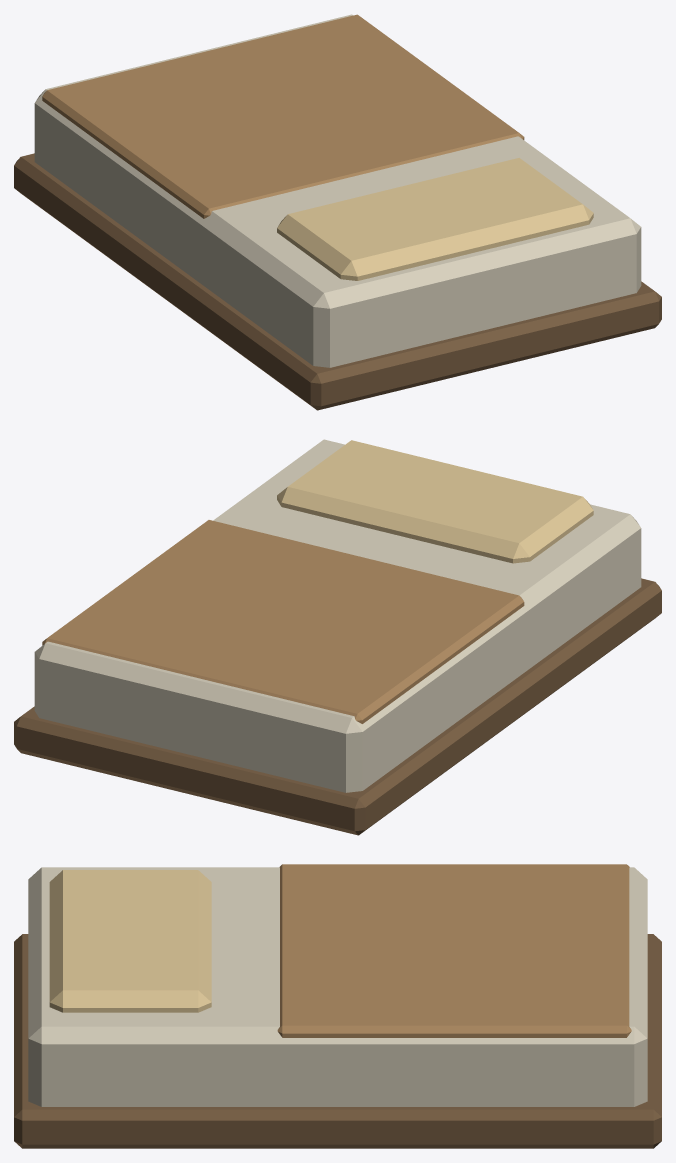
The model's file is small_bed.glb.
3 renders of one model, top to bottom at view 1: azimuth 30°, elevation 25°; view 2: azimuth 150°, elevation 25°; view 3: azimuth 270°, elevation 25°, orthographic. The views are drawn at different scales.
Size of the model in its own units: 1.8 by 0.601 by 2.7.
